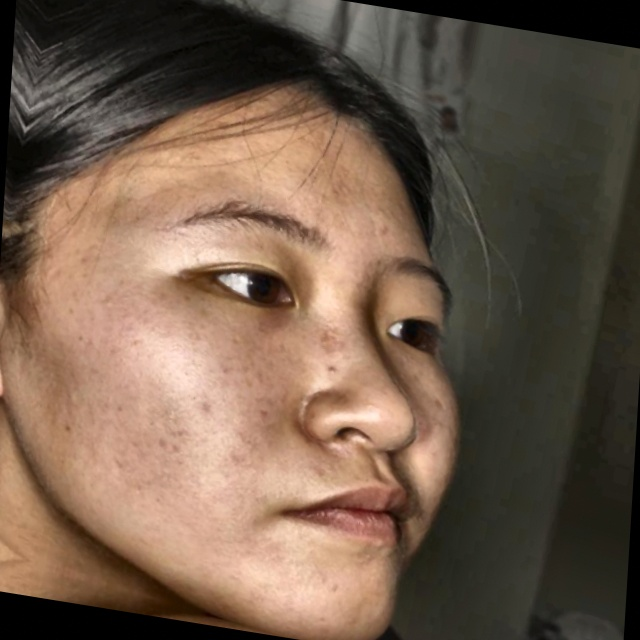comedone: (306, 352, 351, 391)
